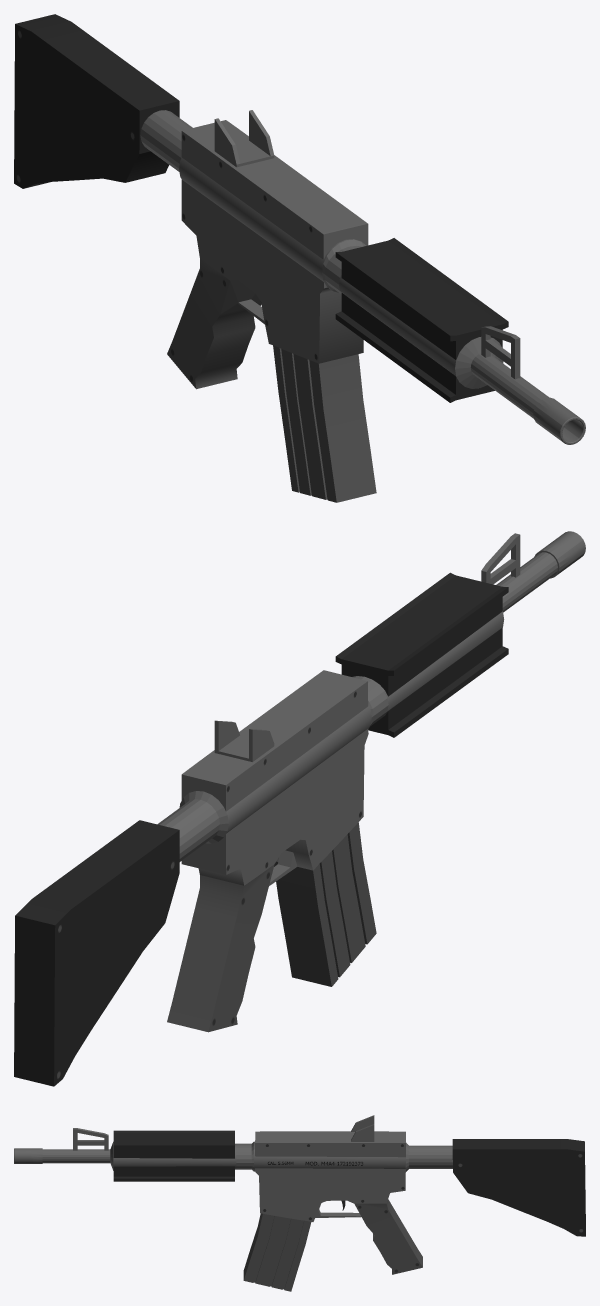
File: Obj_PlayerGun.fbx
The picture shows the model from 3 angles, top to bottom: view 1: azimuth 30°, elevation 25°; view 2: azimuth 150°, elevation 25°; view 3: azimuth 270°, elevation 25°; orthographic projection. The views are drawn at different scales.
Visible parts, largest first — view 1: Obj_PlayerGun; view 2: Obj_PlayerGun; view 3: Obj_PlayerGun.
Part boxes in pixels (x1,y1,x2,y2): Obj_PlayerGun: (14,14,585,502); Obj_PlayerGun: (14,531,585,1086); Obj_PlayerGun: (14,1115,585,1291).
Size of the model in its own units: 0.0834 by 0.4288 by 1.33.
